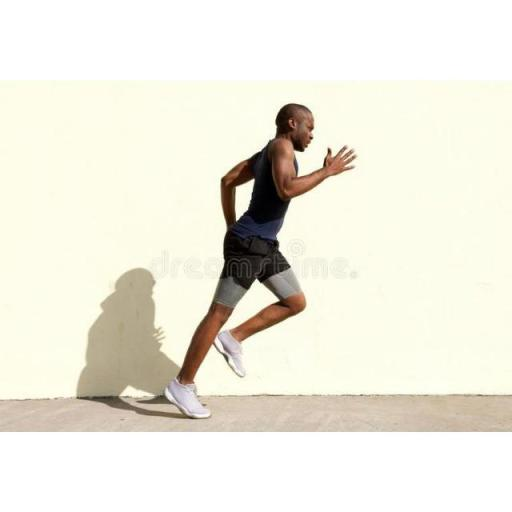Running: (166, 99, 356, 417)
